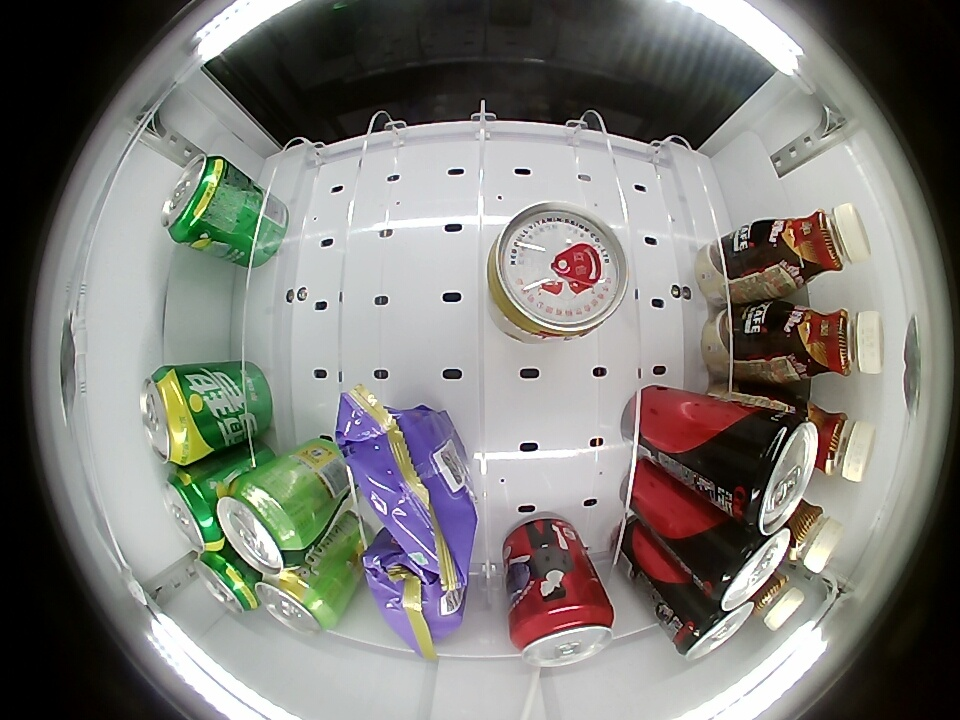hongniu: (488, 201, 628, 339)
kafei: (761, 203, 871, 290), (769, 304, 886, 384), (793, 397, 876, 482), (774, 497, 844, 574), (749, 569, 804, 630)
kaomo_jiaoyan: (340, 406, 475, 584), (362, 537, 469, 653)
kele: (512, 600, 615, 668)
lingdukele: (717, 405, 818, 534), (697, 524, 791, 611), (671, 597, 755, 661)
quchenshixiangcao: (217, 470, 311, 575), (253, 568, 341, 636)
xuebi2: (139, 365, 212, 467), (160, 154, 240, 247), (161, 469, 228, 552), (194, 551, 261, 615)
